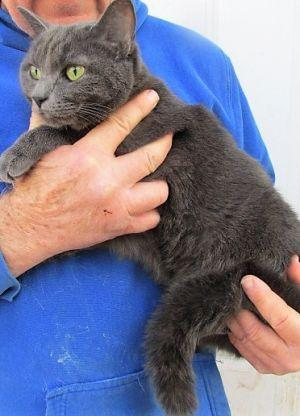rblue: (5, 1, 153, 143)
